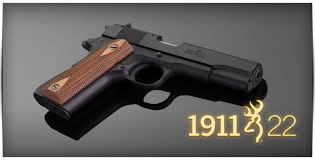gun: (32, 23, 265, 119)
